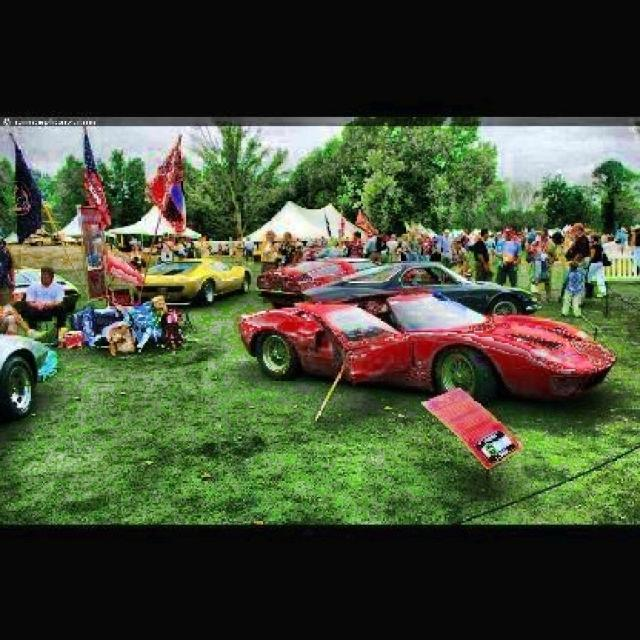green: (134, 258, 248, 305)
red: (235, 292, 614, 396)
